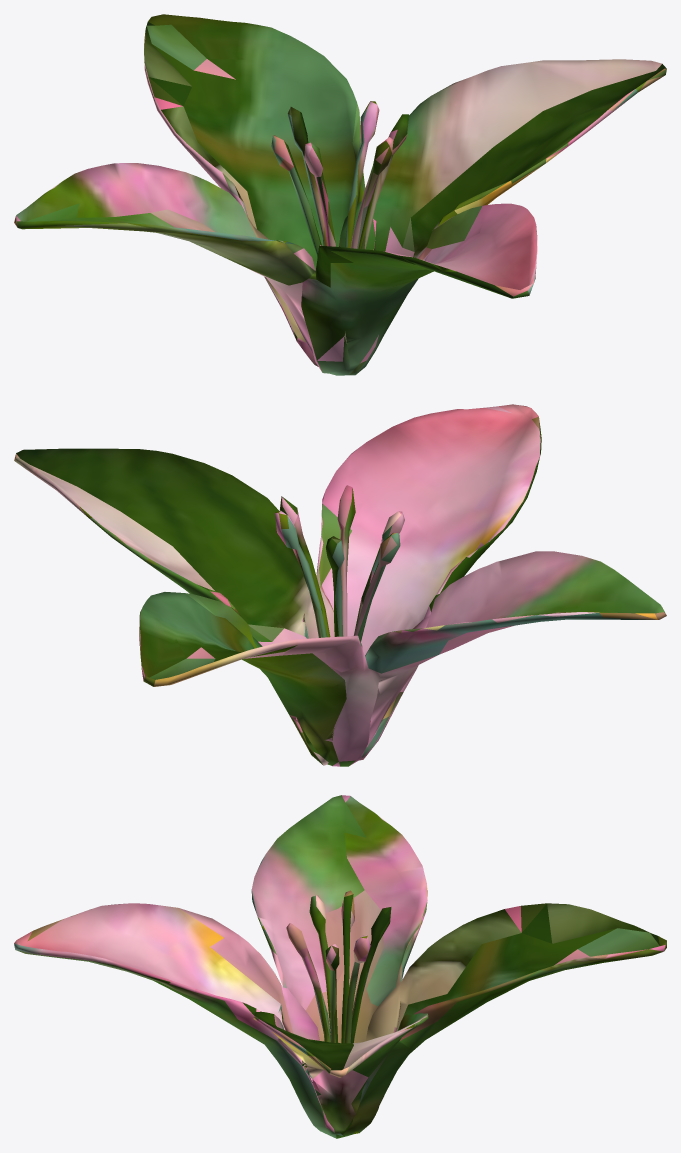
The model's file is flor.fbx.
3 renders of one model, top to bottom at view 1: azimuth 30°, elevation 25°; view 2: azimuth 150°, elevation 25°; view 3: azimuth 270°, elevation 25°, orthographic. The views are drawn at different scales.
Visible parts, largest first — view 1: Mesh_0; view 2: Mesh_0; view 3: Mesh_0.
Boxes of the visible parts, x1,y1,x2,y2 form: Mesh_0: (14,14,666,375); Mesh_0: (14,404,666,766); Mesh_0: (14,795,666,1138).
Size of the model in its own units: 200 by 74.52 by 200.
